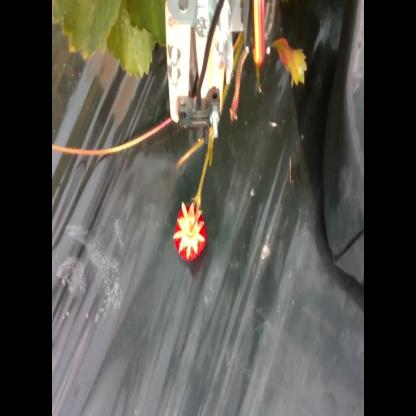ripe: (169, 200, 214, 269)
